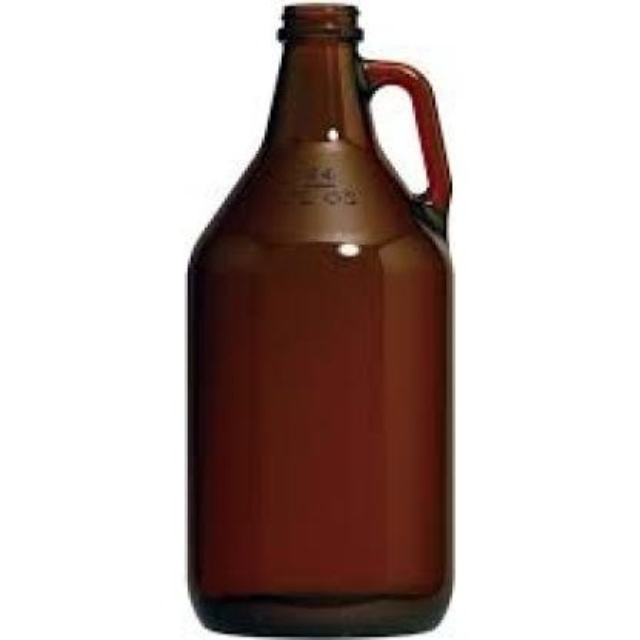trash: (188, 5, 451, 634), (368, 83, 428, 195)
